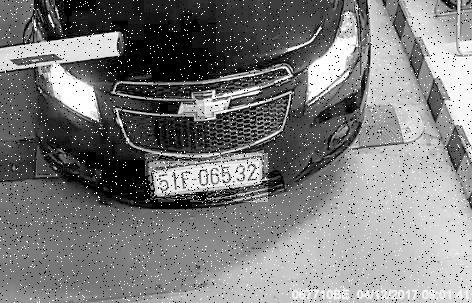License-plate: (147, 154, 271, 203)
